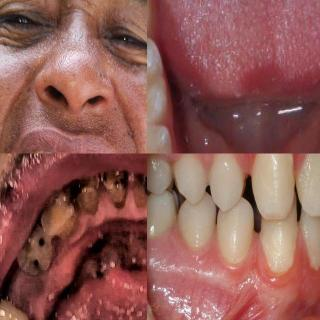cavities: (68, 175, 100, 207), (101, 168, 127, 200), (129, 167, 147, 202)
plaque: (260, 226, 302, 274), (256, 154, 294, 192), (293, 232, 320, 276), (299, 153, 320, 185)
stains: (34, 147, 41, 153), (44, 150, 52, 154), (24, 152, 30, 154)
